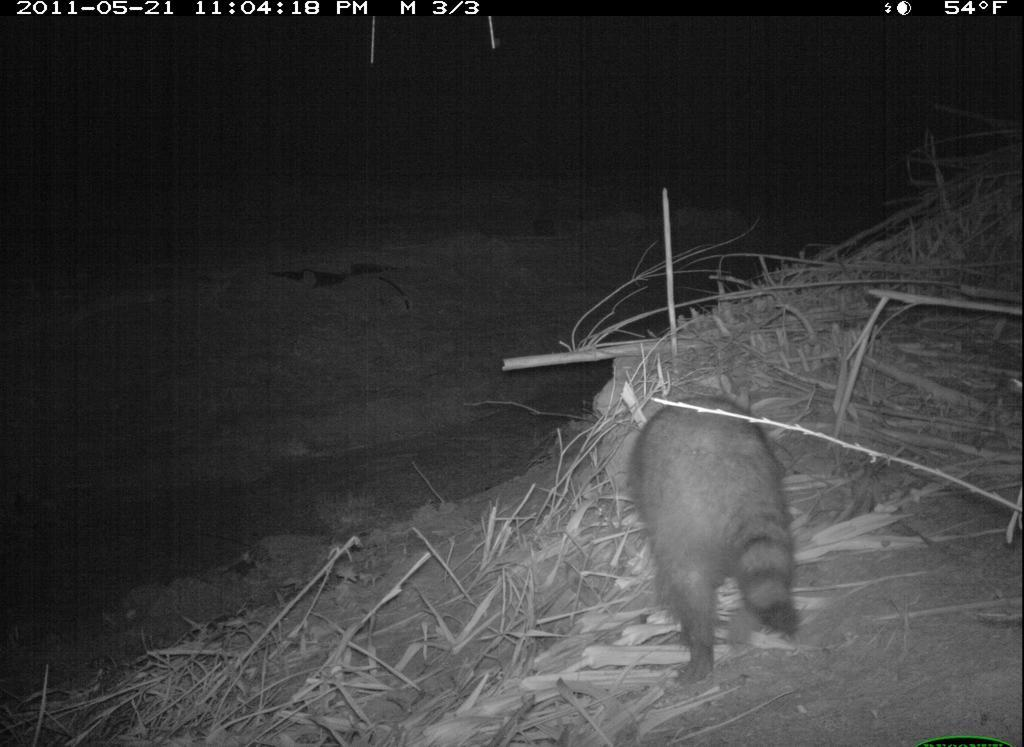raccoon: (628, 386, 831, 693)
